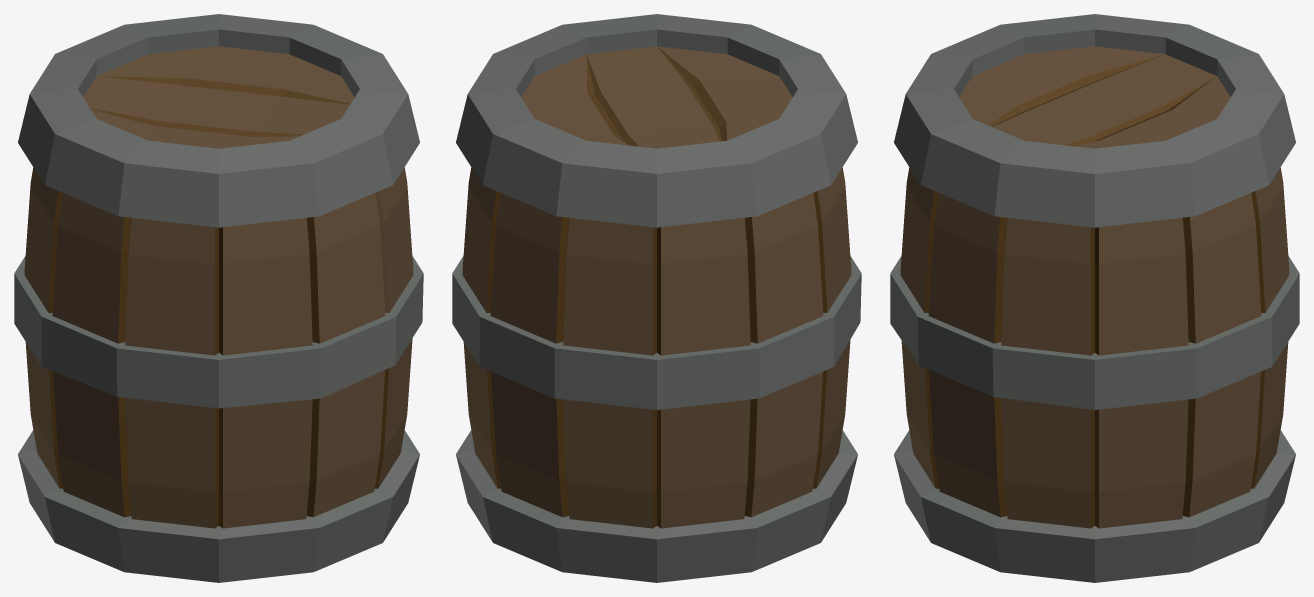
Rendered from Barrel_closed.glb.
3 renders of one model, left to right at view 1: azimuth 30°, elevation 25°; view 2: azimuth 150°, elevation 25°; view 3: azimuth 270°, elevation 25°, orthographic.
Visible parts, largest first — view 1: Barrel_closed; view 2: Barrel_closed; view 3: Barrel_closed.
Boxes of the visible parts, x1,y1,x2,y2 form: Barrel_closed: (14,14,423,582); Barrel_closed: (452,14,861,582); Barrel_closed: (890,14,1299,582).
Size of the model in its own units: 0.1036 by 0.117 by 0.1036.
Materials: 1 (1 with a texture image).
